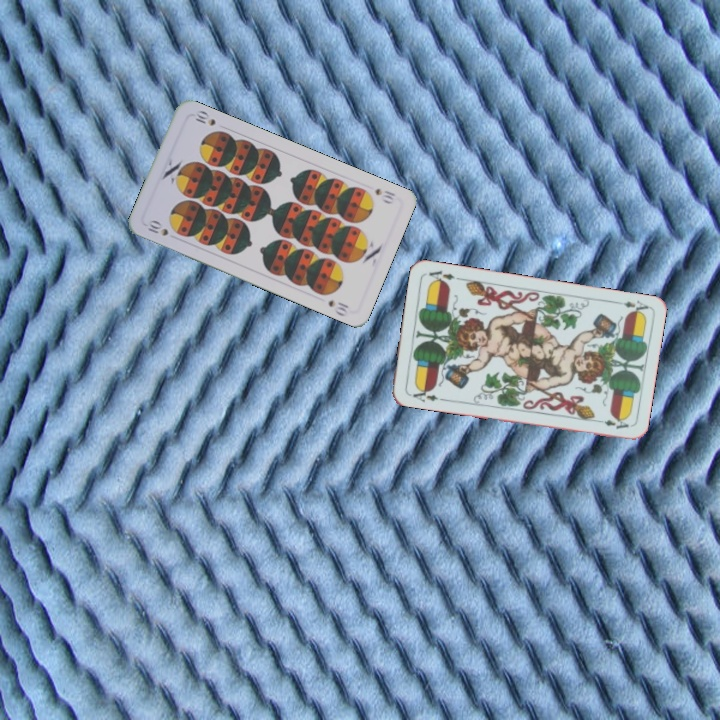EA: (405, 383, 446, 405), (610, 296, 651, 317)
S10: (144, 217, 171, 239), (371, 184, 398, 206)
